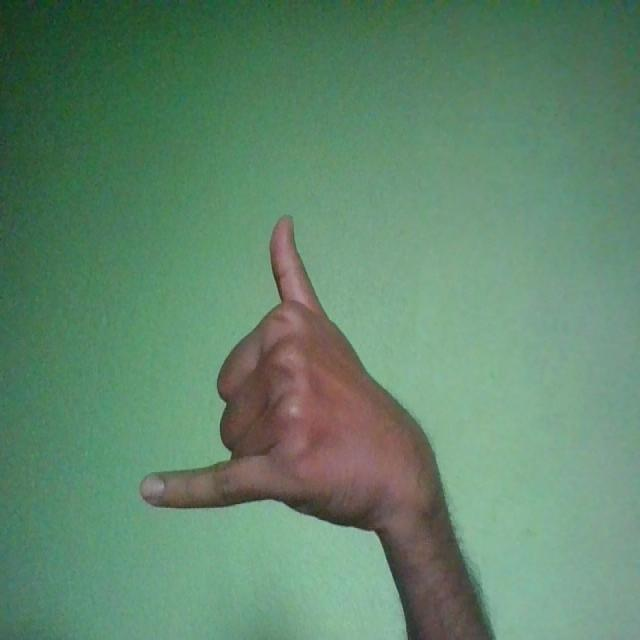Call Me: (141, 212, 443, 531)
